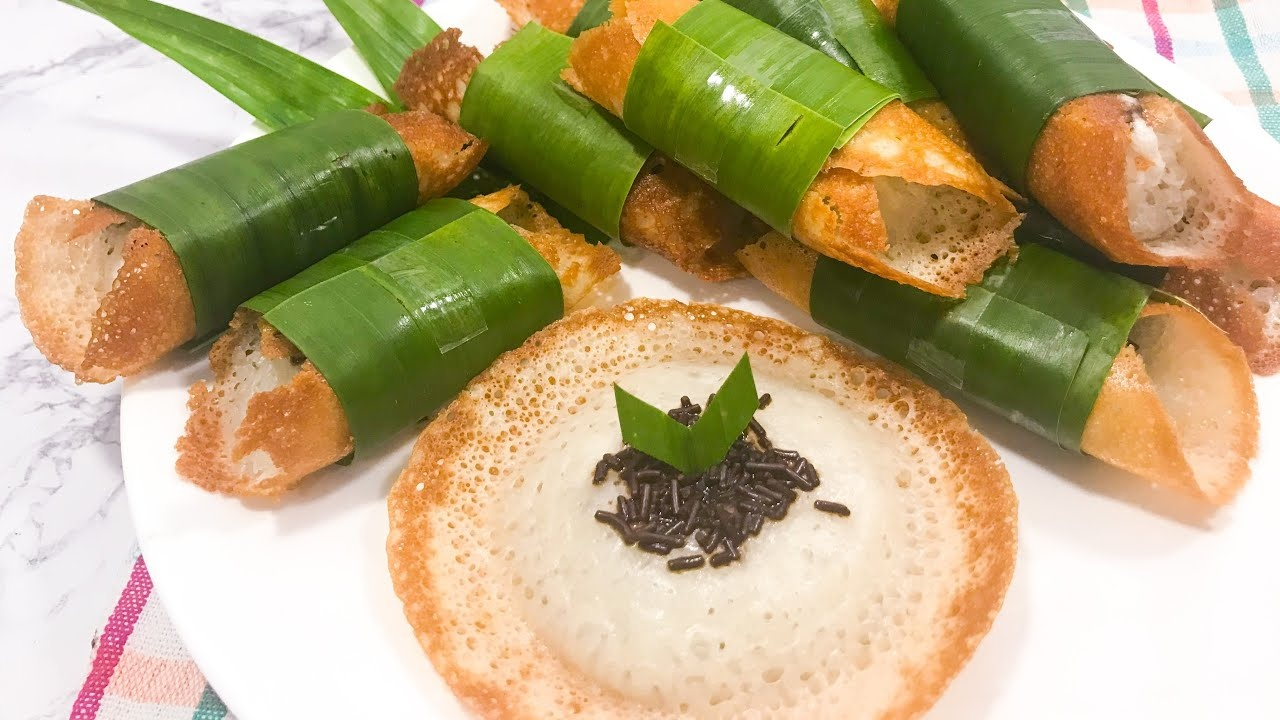srabi: (352, 294, 1038, 720)
